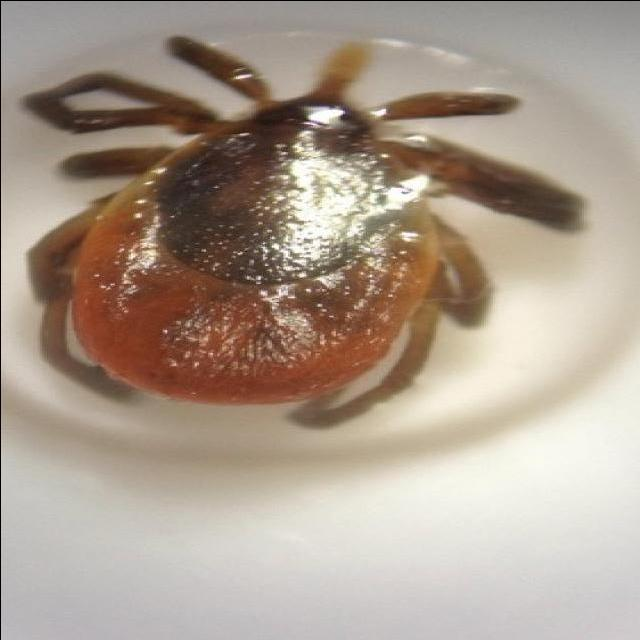Ixodes Ricinus-F: (20, 36, 590, 433)
